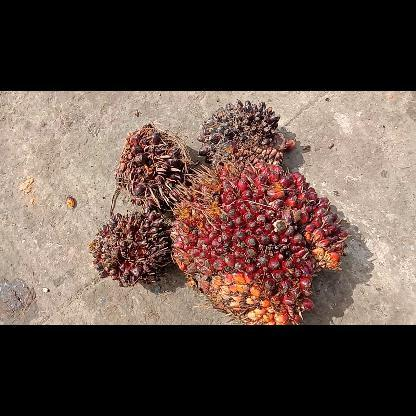TBS abnormal: (113, 121, 190, 213), (196, 98, 296, 166), (90, 212, 172, 288)
TBS masak: (168, 160, 350, 324)
